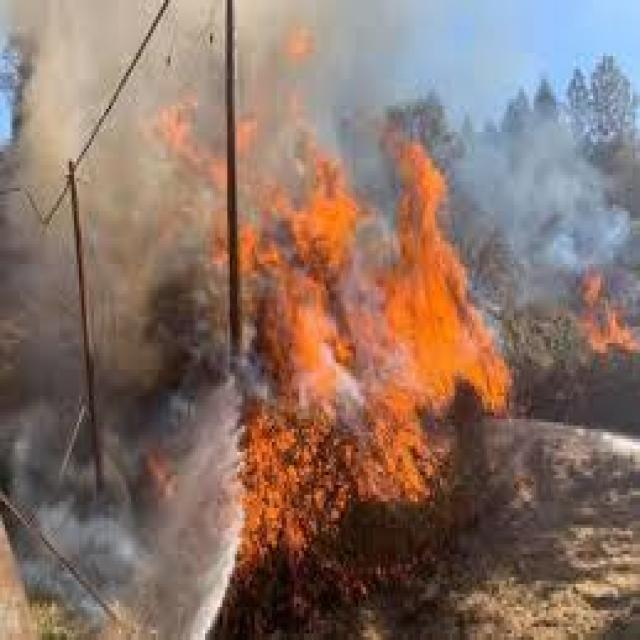Fire: (253, 114, 380, 556), (378, 108, 512, 426), (238, 374, 438, 556), (573, 251, 640, 366)
Smoke: (0, 0, 632, 287)
